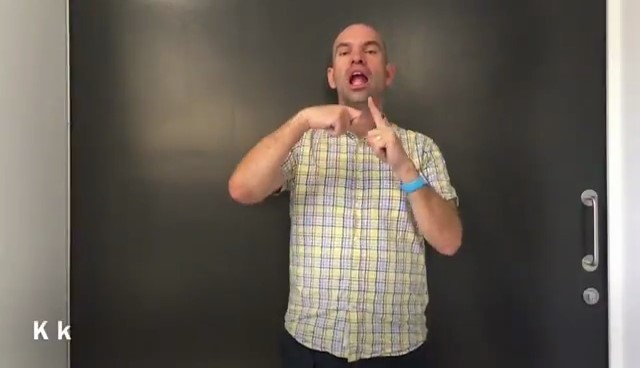K: (279, 83, 421, 178)
